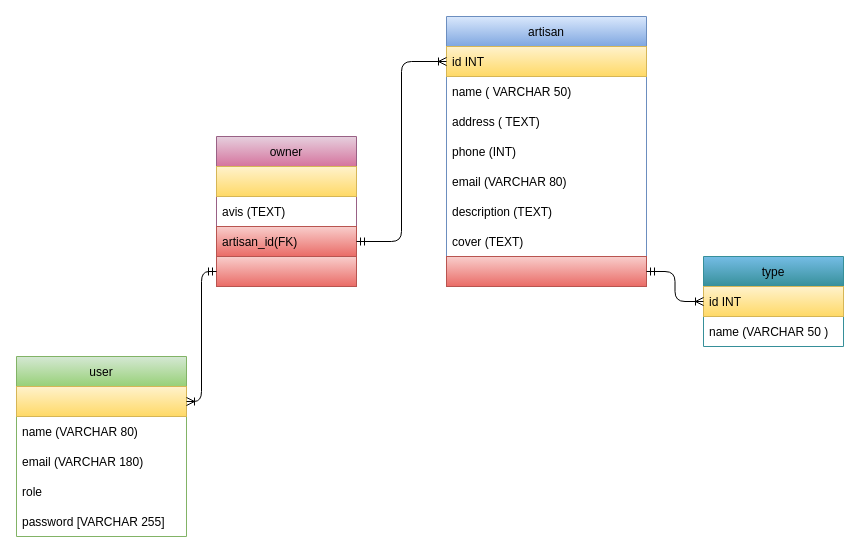
Image size: 860x553. Some labels were removed from this diagram. The shapes that lost their labels are listed below. From the top down, each one's centre as x and y in pixels, then its label:
point (286, 181): id [INT]
point (286, 271): user_id(FK)
point (546, 271): type_id (FK)
point (101, 401): id (INT)
